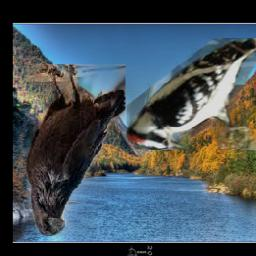Crow: (27, 64, 127, 236)
Woodpecker: (128, 38, 256, 150)
